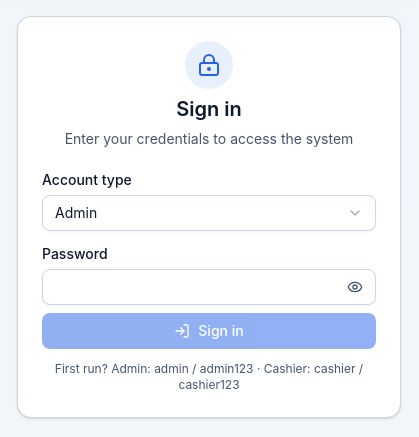
Scenario: LoginPage › toggles password visibility
In the password field labelled "Password": (191, 287) [43,269,339,305], type "admin123"
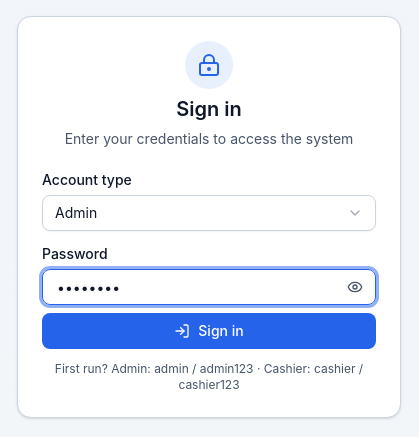
Click the button named "show password": (355, 287) [339,271,371,303]
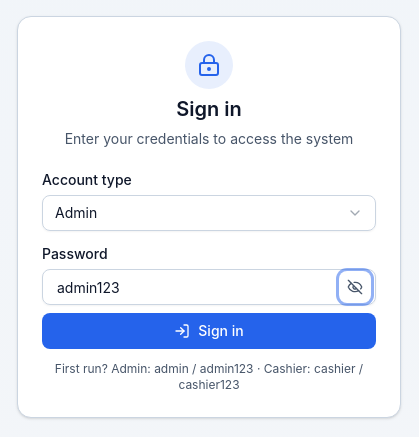
Result: the field labelled "Password" shows its text at [43,269,339,305]
Click the button named "hide password": (355, 287) [339,271,371,303]
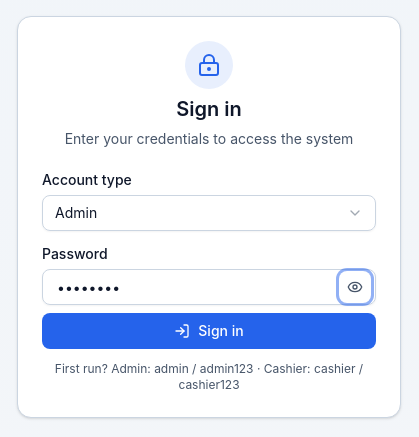
Result: the password field labelled "Password" hides its text at [43,269,339,305]
